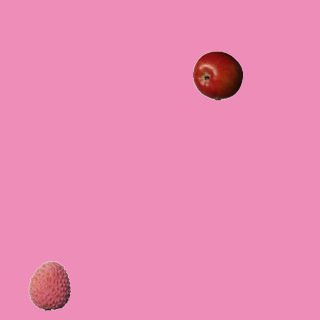Apple Braeburn: (192, 50, 242, 100)
Lychee: (24, 260, 74, 310)
